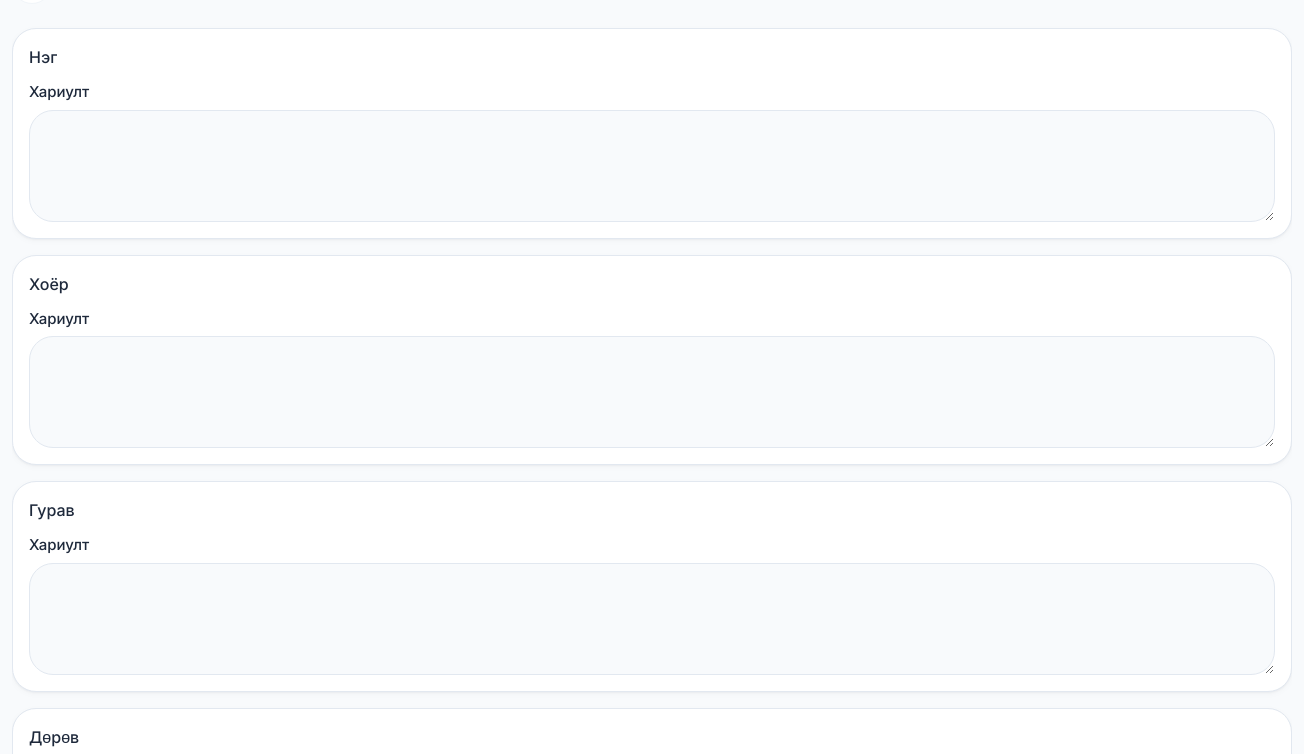
Scenario: a questionnaire's own settings › falls back to the product's thank-you when the survey wrote none
This screenshot has width=1304, height=754.
Check: the text "Нэг" is shown, box [29,47,57,67]
Type "х" into the text box labelled "Хариулт" below "Нэг".
click(652, 166); type("х")  # box [29,110,1275,222]
Type "х" into the text box labelled "Хариулт" below "Хоёр".
click(652, 392); type("х")  # box [29,336,1275,448]
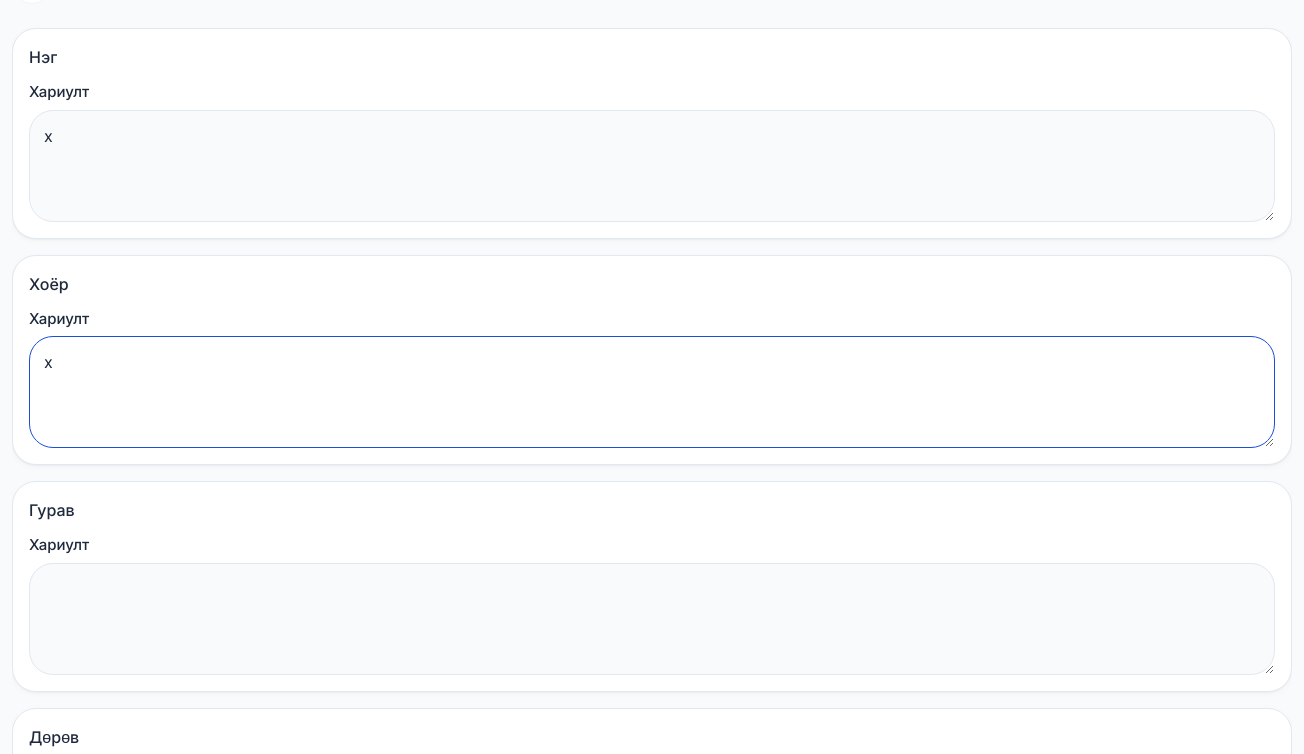
Type "х" into the text box labelled "Хариулт" below "Гурав".
click(652, 618); type("х")  # box [29,562,1275,674]
(page scrolled)
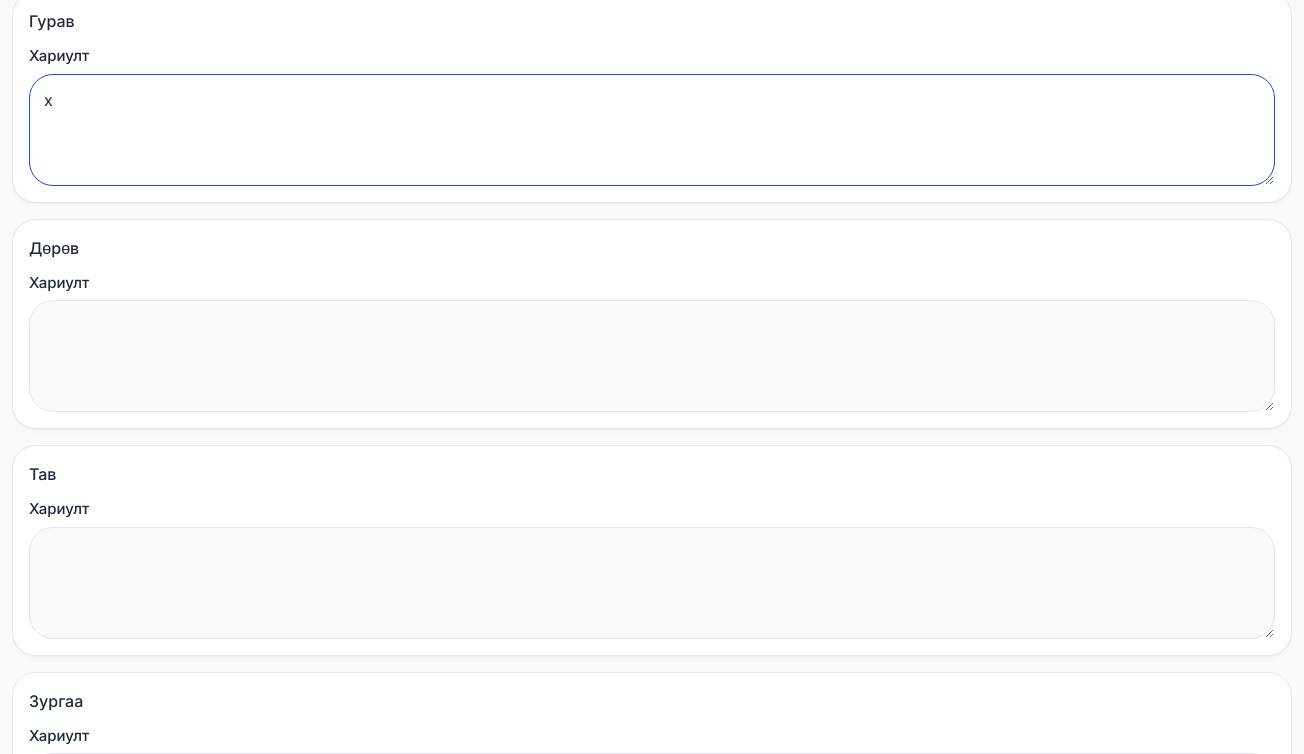
Type "х" into the text box labelled "Хариулт" below "Дөрөв".
click(652, 356); type("х")  # box [29,300,1275,412]
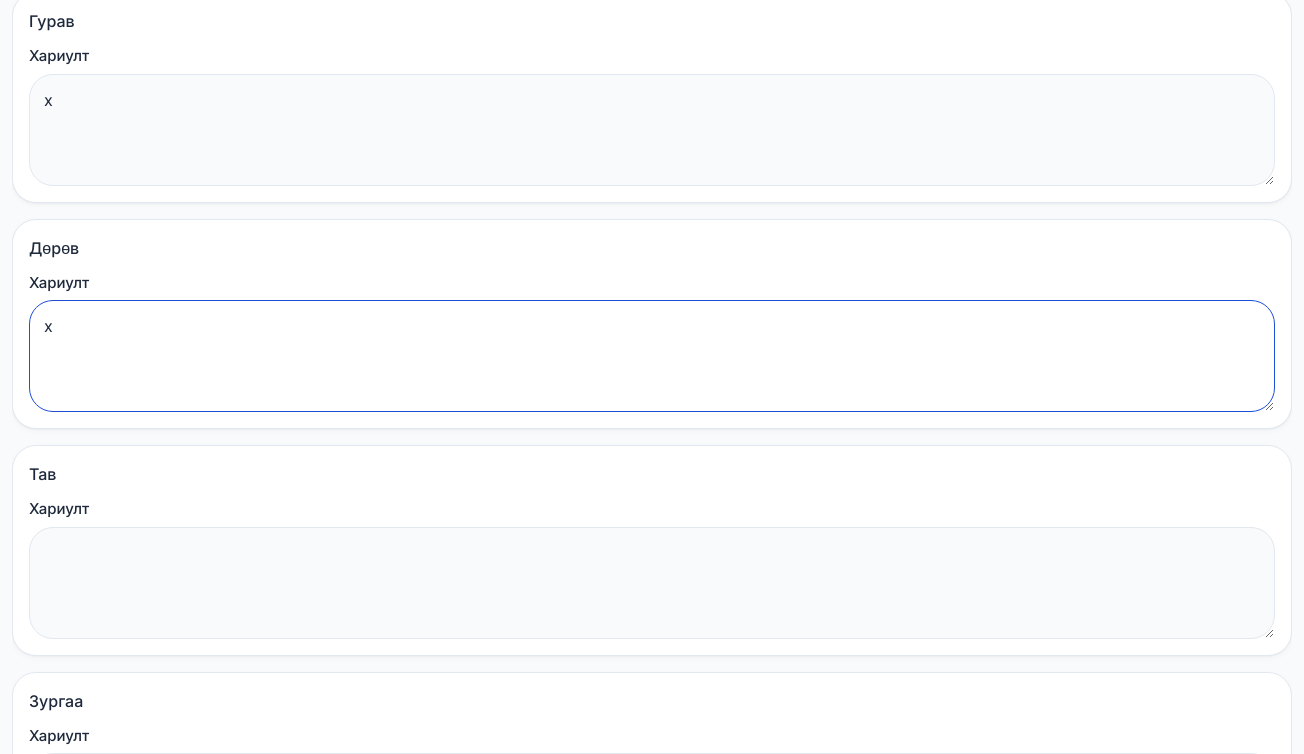
Type "х" into the text box labelled "Хариулт" below "Тав".
click(652, 582); type("х")  # box [29,526,1275,638]
(page scrolled)
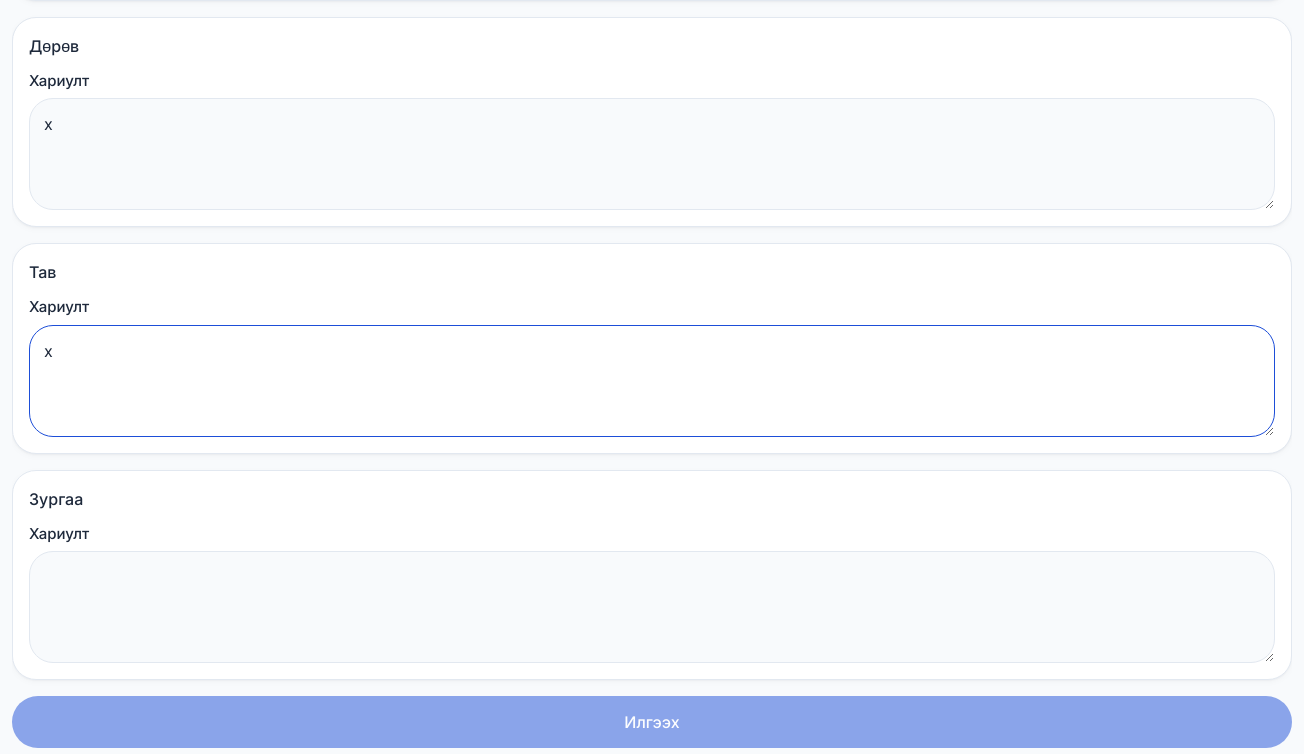
Type "х" into the text box labelled "Хариулт" below "Зургаа".
click(652, 607); type("х")  # box [29,551,1275,663]
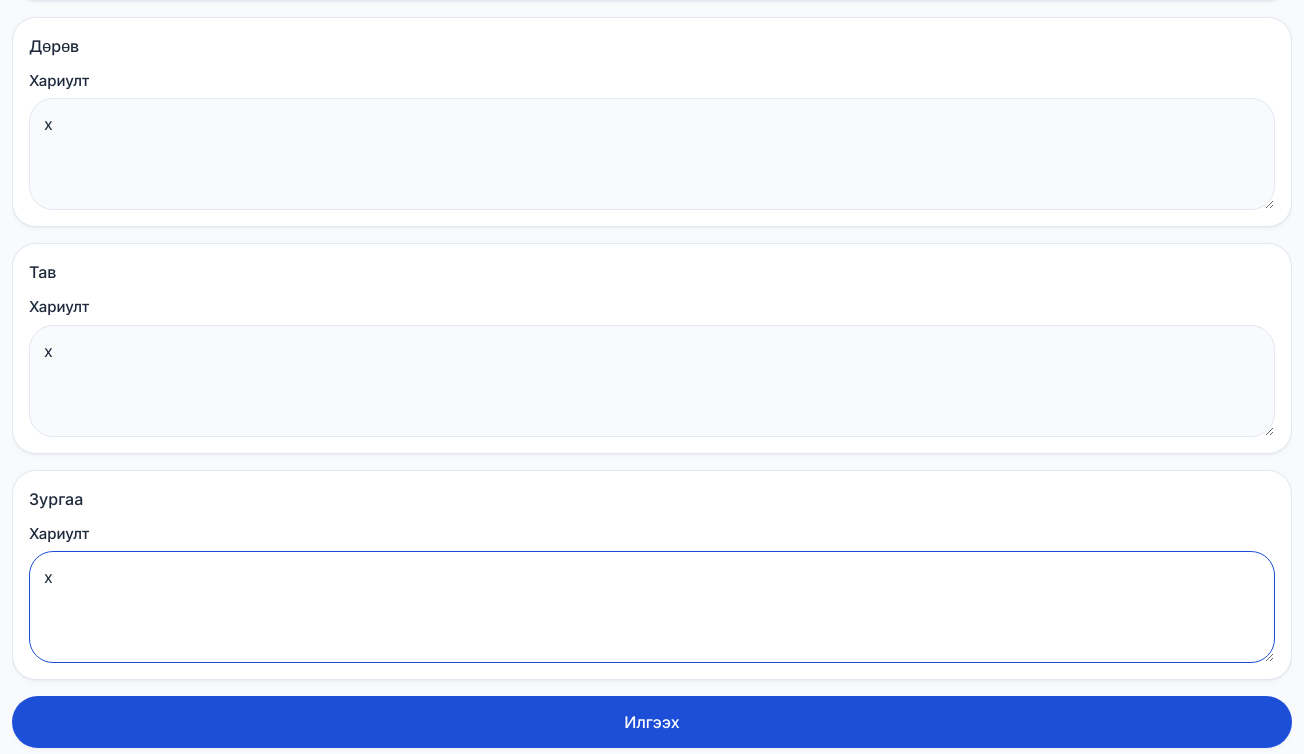
Click the button "Илгээх".
click(652, 722)  # box [12,696,1292,748]
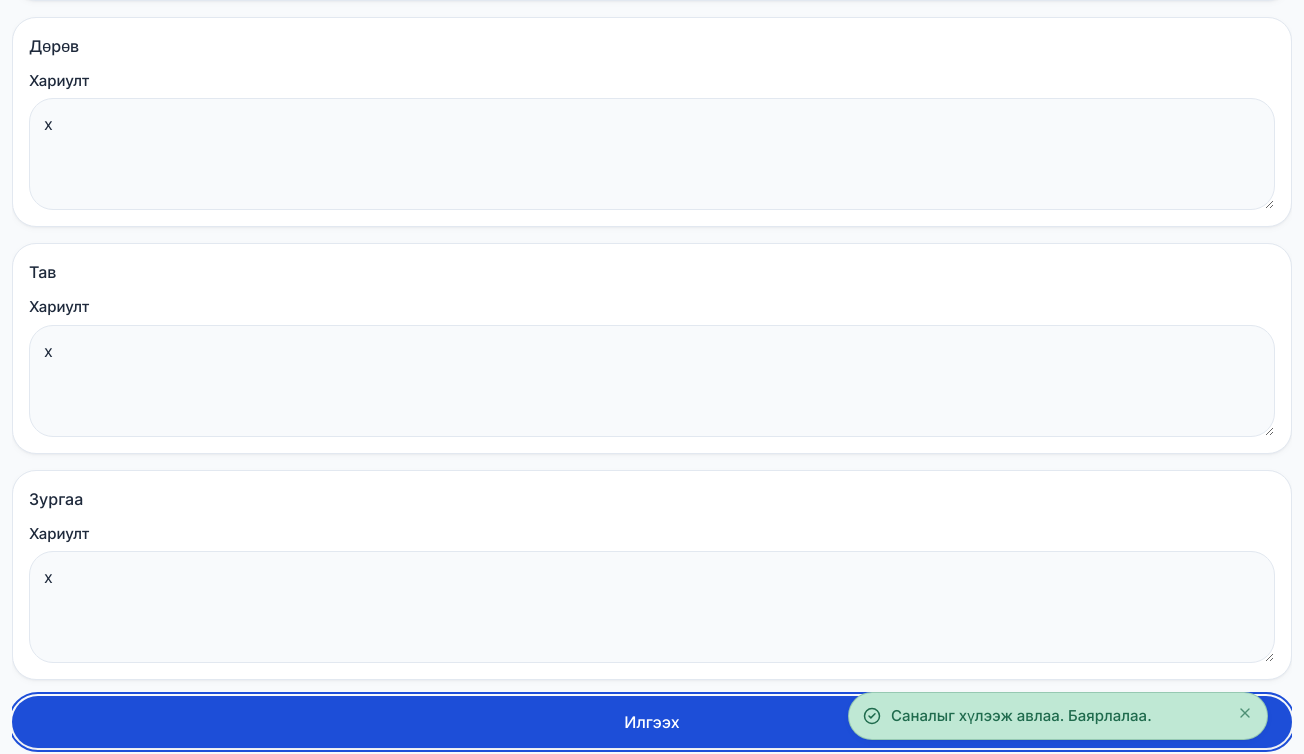
Check: the text "Саналыг хүлээж авлаа. Баярлалаа." is shown, box [891,706,1152,724]
